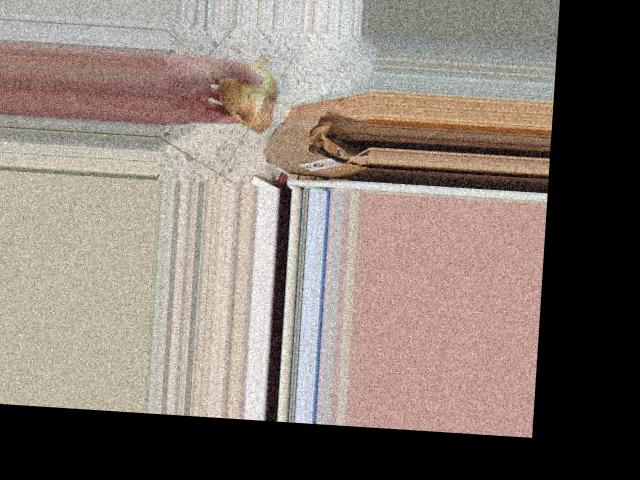onion: (209, 58, 288, 134)
